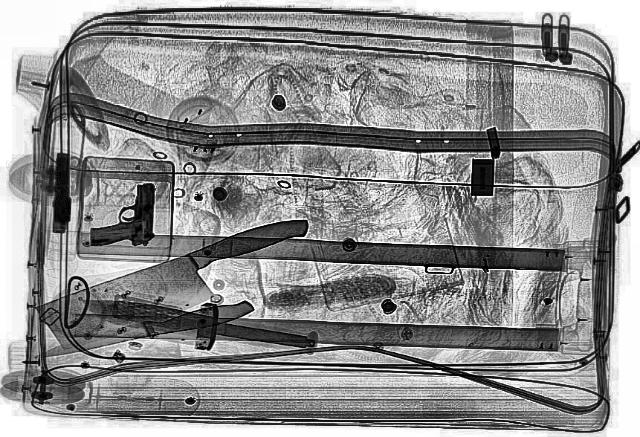Gun: (88, 181, 156, 247), (51, 152, 73, 232)
Knife: (24, 212, 342, 354), (25, 296, 256, 366), (79, 292, 309, 352)
